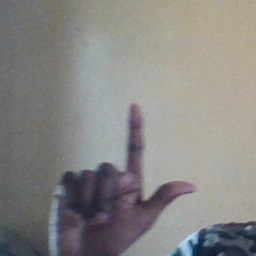L: (48, 101, 199, 256)
